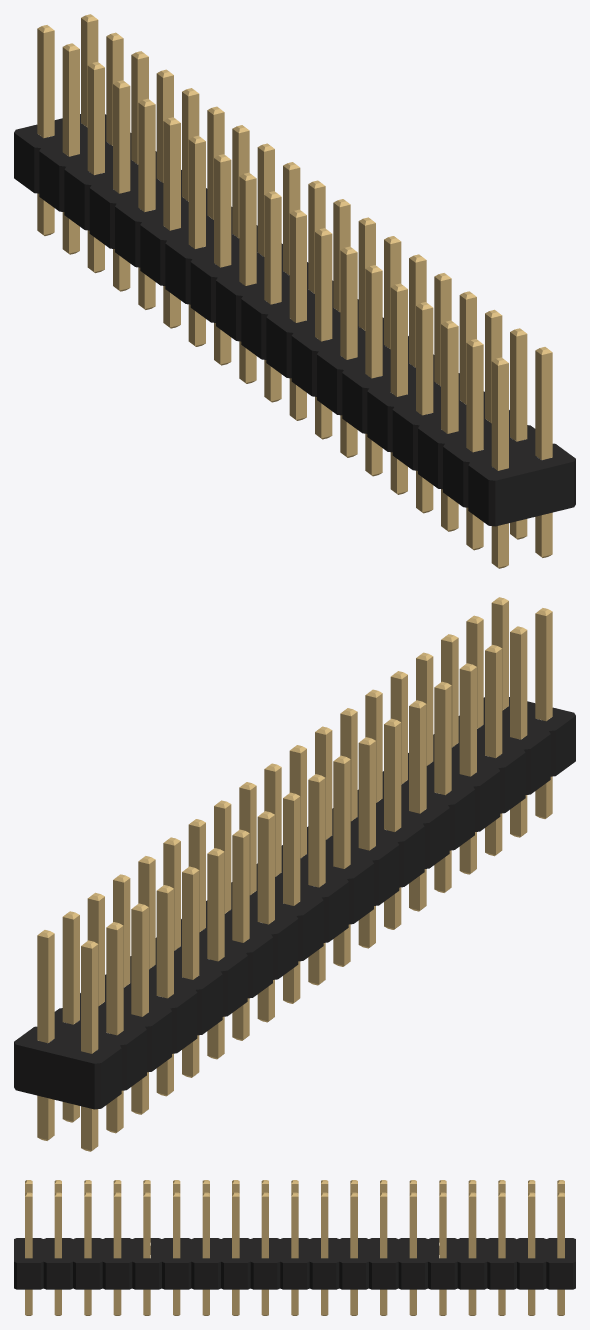
File: kc-pinheader_2x19_p2.54mm_vertical.glb
3 views of the same model, one above another, from view 1: azimuth 30°, elevation 25°; view 2: azimuth 150°, elevation 25°; view 3: azimuth 270°, elevation 25° (orthographic). The views are drawn at different scales.
Parts seen in each view (by area): view 1: 0.75_0.5_0.25_0.9, 0_0_0_0; view 2: 0.75_0.5_0.25_0.9, 0_0_0_0; view 3: 0_0_0_0, 0.75_0.5_0.25_0.9.
Boxes of the visible parts, x1,y1,x2,y2 form: 0.75_0.5_0.25_0.9: (37,14,552,568); 0_0_0_0: (14,114,575,526); 0.75_0.5_0.25_0.9: (37,597,552,1151); 0_0_0_0: (14,697,575,1109); 0_0_0_0: (14,1238,575,1289); 0.75_0.5_0.25_0.9: (25,1180,564,1315).
Size of the model in its own units: 0.5078 by 1.15 by 4.83.
